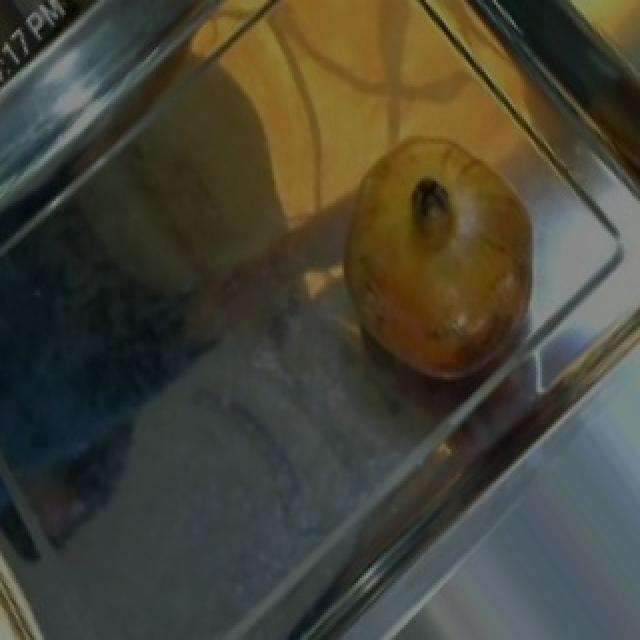fruit: (302, 107, 564, 402)
